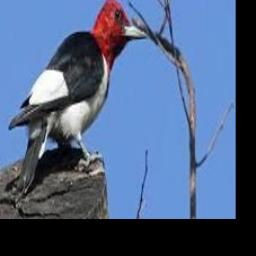Woodpecker: (9, 0, 148, 193)
